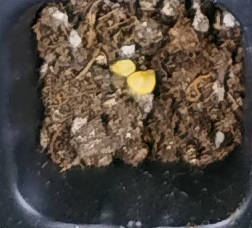pepper seed: (48, 20, 205, 116), (41, 20, 178, 97)
